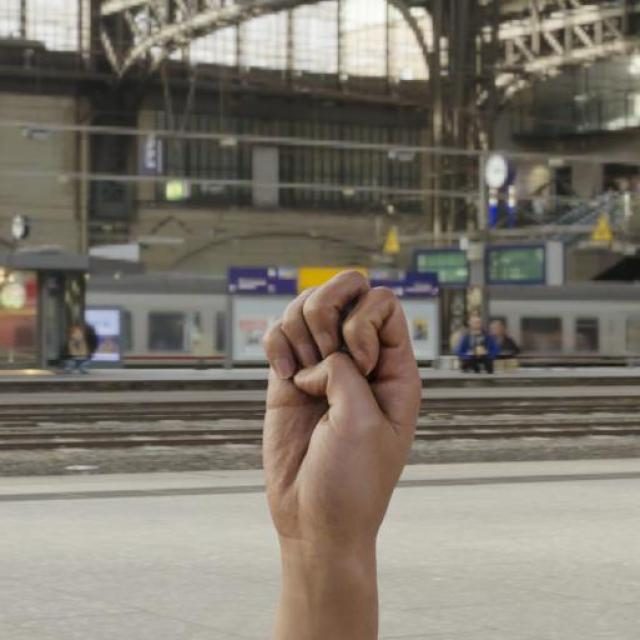E: (254, 266, 423, 545)
